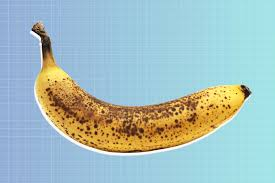banana: (30, 21, 254, 158)
